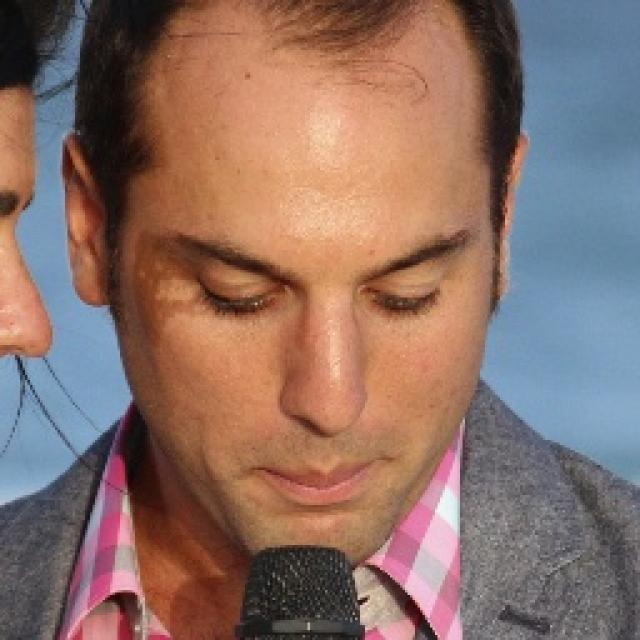earlobe: (61, 132, 111, 310), (496, 128, 528, 308)
